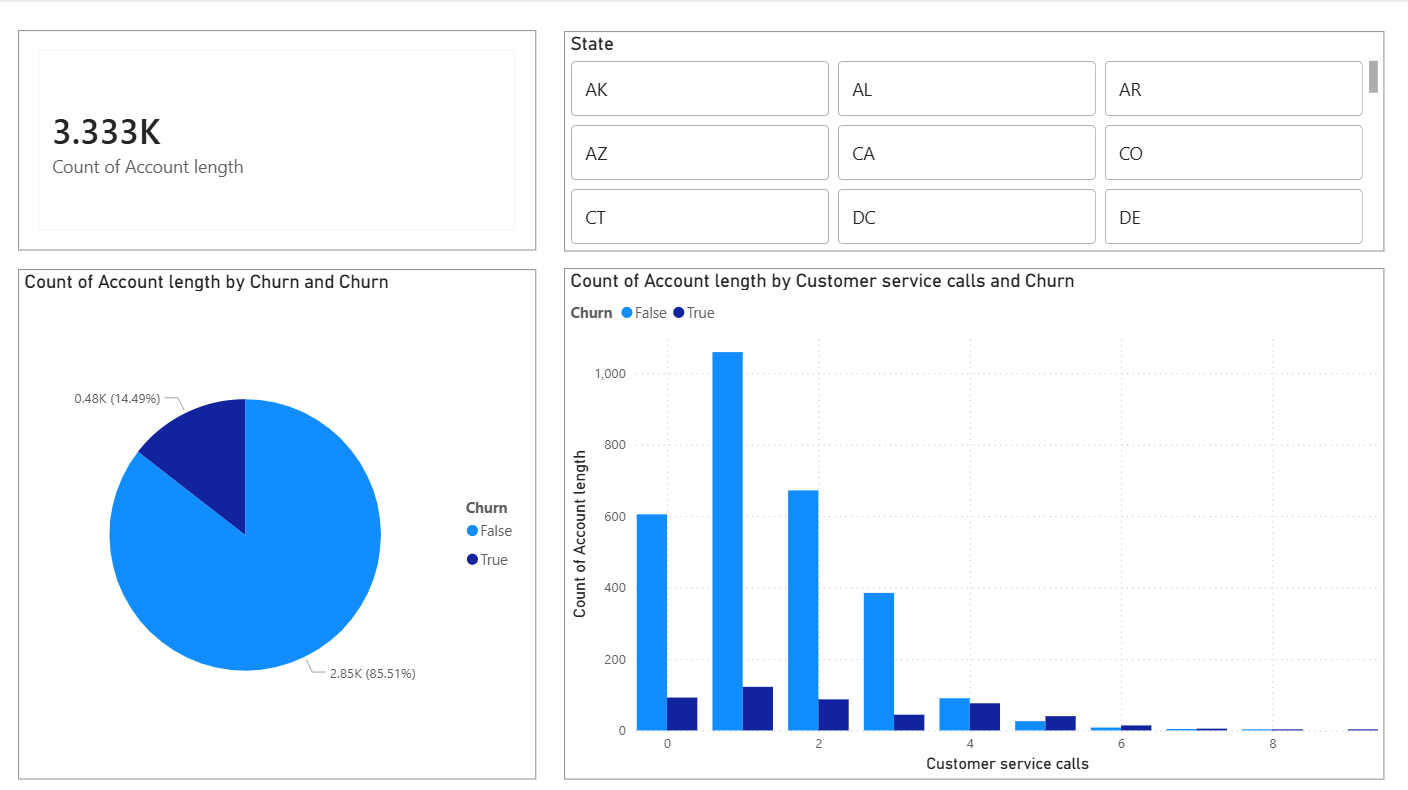

The page's visual inventory and layout, read from the dashboard file:
{"tool":"powerbi","page":{"name":"Page 1","canvas":[1280,720],"ordinal":0},"visuals":[{"type":"cardVisual","fields":{"Data":["CountNonNull(Customer_Churn_Data.Account length)"]},"box":[18.1,28.2,469.9,200.3],"z":0},{"type":"pieChart","fields":{"Series":["Customer_Churn_Data.Churn"],"Category":["Customer_Churn_Data.Churn"],"Y":["CountNonNull(Customer_Churn_Data.Account length)"]},"box":[17.8,244.4,470,463.3],"z":1000},{"type":"clusteredColumnChart","fields":{"Category":["Customer_Churn_Data.Customer service calls"],"Y":["CountNonNull(Customer_Churn_Data.Account length)"],"Series":["Customer_Churn_Data.Churn"]},"box":[513.3,244.2,744.5,463.7],"z":2000},{"type":"advancedSlicerVisual","fields":{"Values":["Customer_Churn_Data.State"]},"box":[513.3,28.7,744.5,199.8],"z":3000}]}

Visuals, with their boxes in screenshot pixels (x1, y1, x2, y2), scaled from the page's 1280x720 canvas onto the 1408x790 screenshot:
cardVisual - CountNonNull(Customer_Churn_Data.Account length): {"left": 20, "top": 31, "right": 537, "bottom": 251}
pieChart - Customer_Churn_Data.Churn x Customer_Churn_Data.Churn: {"left": 20, "top": 268, "right": 537, "bottom": 777}
clusteredColumnChart - Customer_Churn_Data.Customer service calls x CountNonNull(Customer_Churn_Data.Account length): {"left": 565, "top": 268, "right": 1384, "bottom": 777}
advancedSlicerVisual - Customer_Churn_Data.State: {"left": 565, "top": 31, "right": 1384, "bottom": 251}
